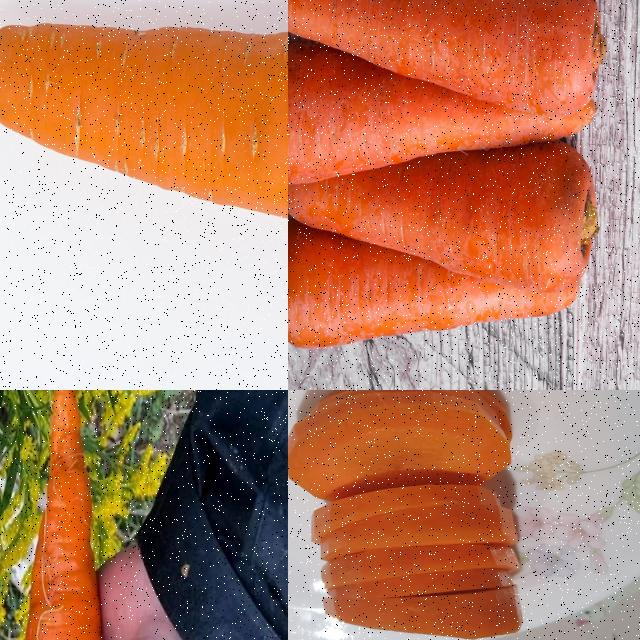carrot: (0, 0, 287, 261), (288, 390, 522, 639), (288, 132, 597, 291), (288, 38, 600, 185), (288, 218, 587, 352), (288, 0, 617, 109), (8, 390, 117, 639)
